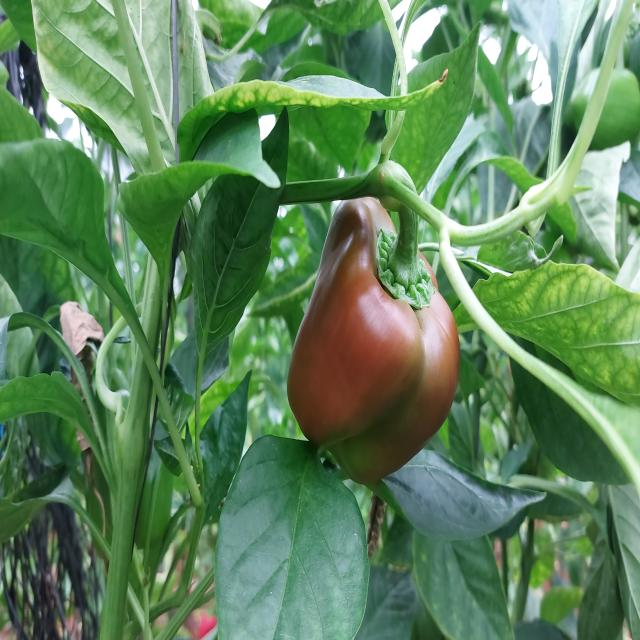BrownishRed--Can-be-Harvested: (282, 184, 469, 488)
